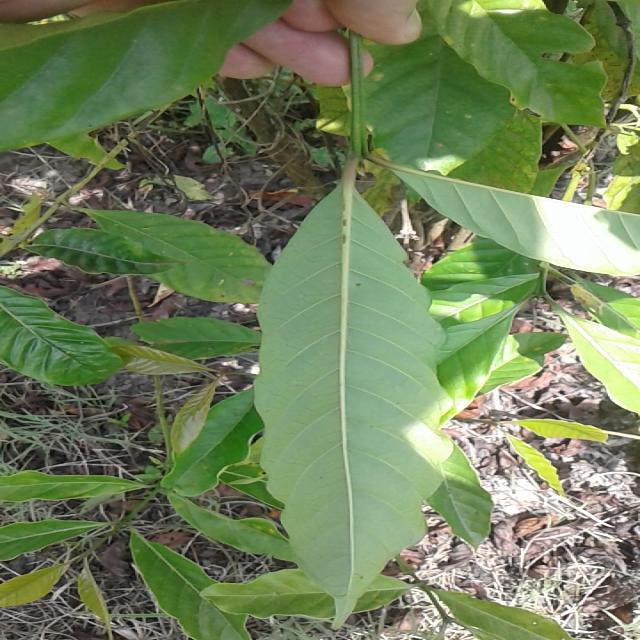Sanas: (252, 159, 516, 626)
